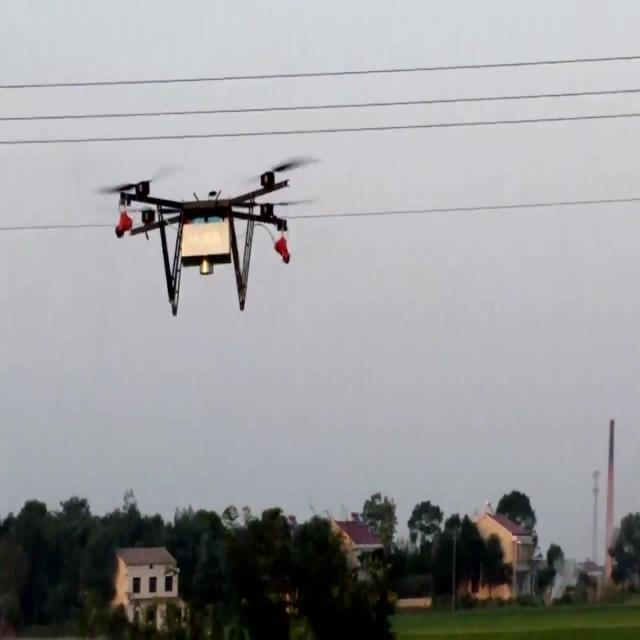drone: (113, 167, 291, 315)
